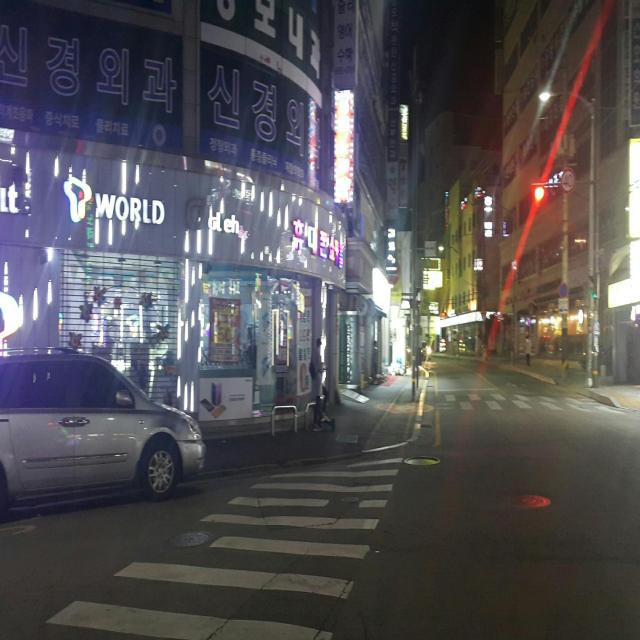횡단보도: (44, 452, 407, 640), (442, 389, 624, 420)
